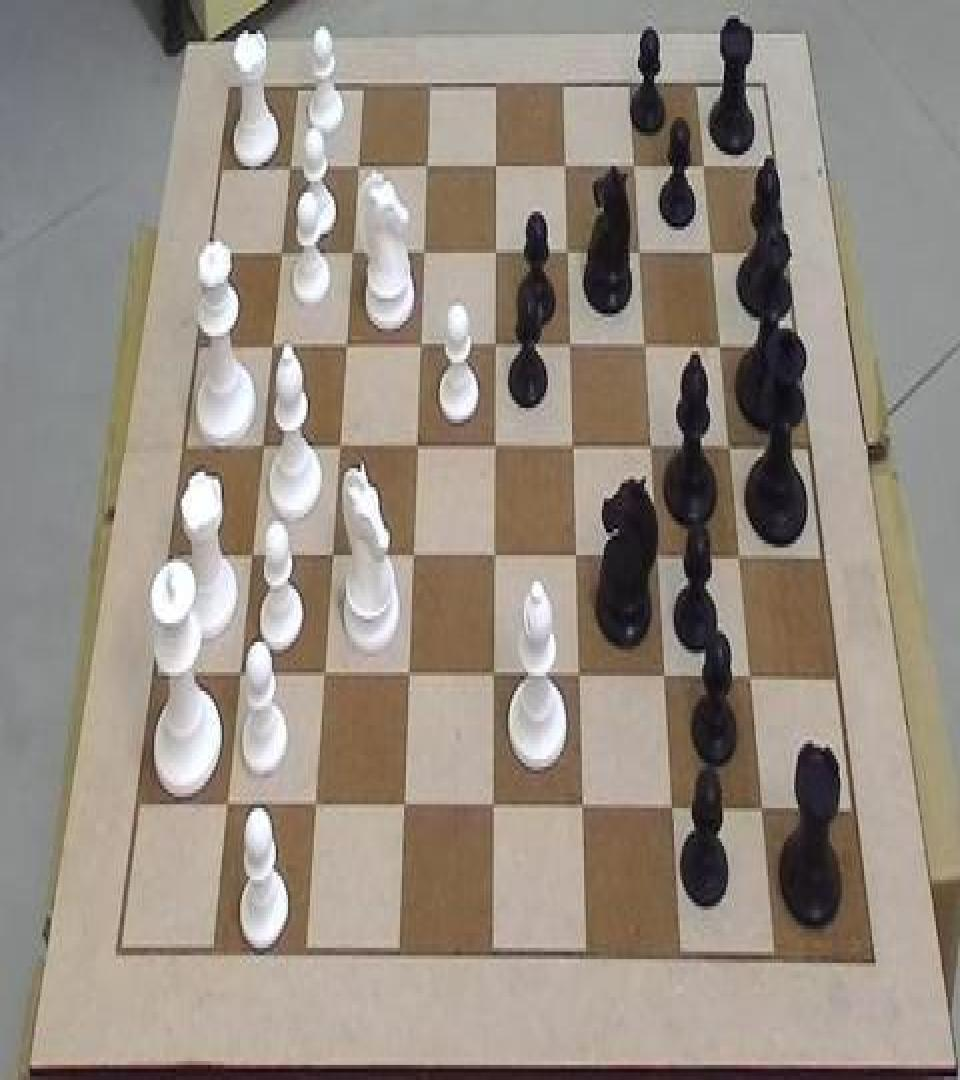xcorner: (695, 147, 715, 185), (625, 147, 645, 185), (555, 147, 575, 185), (485, 147, 505, 185), (416, 147, 436, 185), (347, 147, 367, 185), (279, 147, 299, 185), (703, 234, 723, 272), (630, 234, 650, 272), (557, 234, 577, 272), (485, 234, 505, 272), (413, 232, 433, 270), (341, 232, 361, 270), (270, 232, 290, 270), (711, 328, 731, 366), (635, 328, 655, 366), (560, 326, 580, 364), (484, 326, 504, 364), (410, 326, 430, 364), (335, 324, 355, 362), (261, 324, 281, 362), (720, 430, 740, 468), (641, 428, 661, 466), (562, 428, 582, 466), (484, 426, 504, 464), (406, 426, 426, 464), (328, 426, 348, 464), (251, 424, 271, 462), (730, 542, 750, 580), (647, 540, 667, 578), (565, 538, 585, 576), (483, 538, 503, 576), (402, 536, 422, 574), (321, 534, 341, 572), (240, 534, 260, 572), (741, 662, 761, 700), (654, 660, 674, 698), (568, 659, 588, 697), (483, 657, 503, 695), (397, 657, 417, 695), (313, 655, 333, 693), (229, 653, 249, 691), (753, 795, 773, 833), (662, 793, 682, 831), (572, 791, 592, 829), (482, 789, 502, 827), (393, 787, 413, 825), (304, 786, 324, 824), (216, 784, 236, 822)
